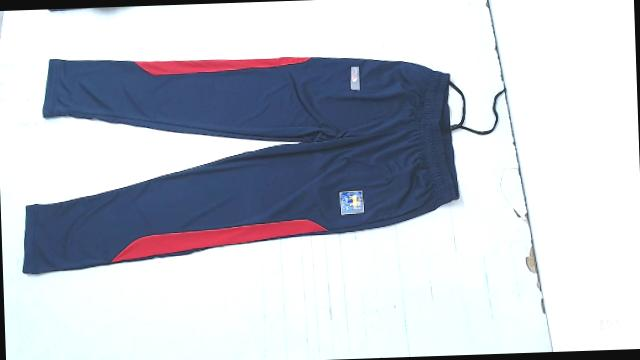new-garment: (23, 57, 464, 273)
